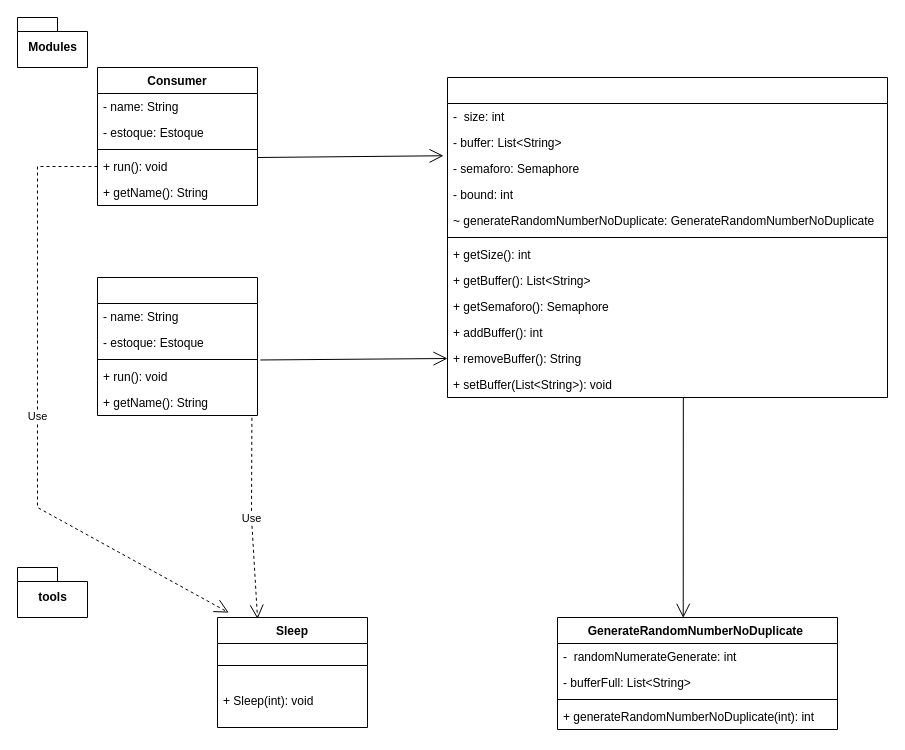
This 905x750 diagram has some shape labels left out. The box of each missing label's shape, as (x1, y1, x2, y2) in pixels:
Estoque: (446, 76, 888, 398)
Producer: (96, 276, 258, 416)
